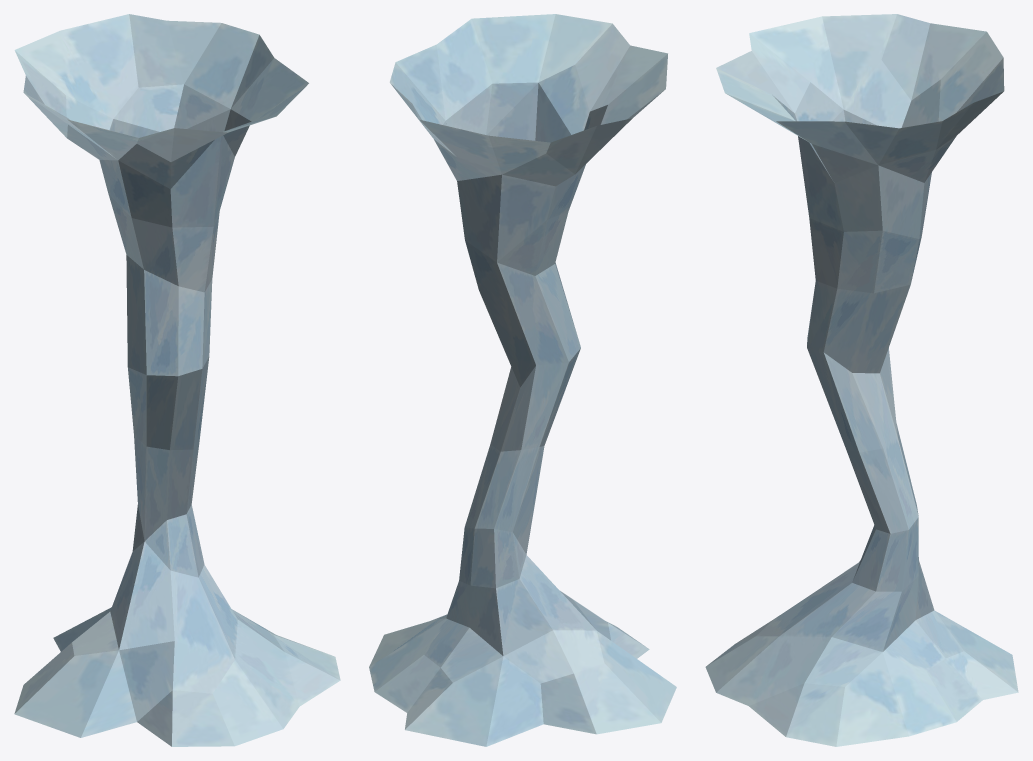
The model's file is cavepillar6.fbx.
The picture shows the model from 3 angles, left to right: view 1: azimuth 30°, elevation 25°; view 2: azimuth 150°, elevation 25°; view 3: azimuth 270°, elevation 25°; orthographic projection.
Parts seen in each view (by area): view 1: Cube.005; view 2: Cube.005; view 3: Cube.005.
Boxes of the visible parts, <box> form: Cube.005: <box>14,14,340,746</box>; Cube.005: <box>369,14,676,746</box>; Cube.005: <box>705,14,1018,746</box>.
Bounding box in the file's own units: 1010 × 1963 × 931.
